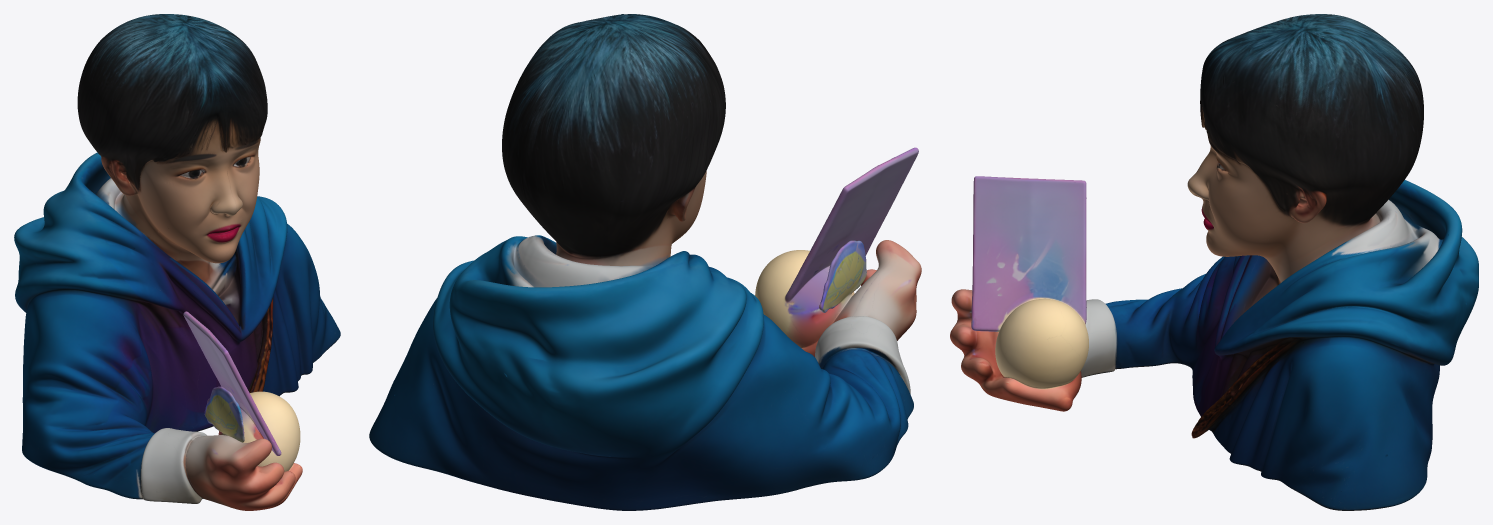
The picture shows the model from 3 angles, left to right: view 1: azimuth 30°, elevation 25°; view 2: azimuth 150°, elevation 25°; view 3: azimuth 270°, elevation 25°; orthographic projection. The views are drawn at different scales.
Visible parts, largest first — view 1: texture_pbr_v128; view 2: texture_pbr_v128; view 3: texture_pbr_v128.
Boxes of the visible parts, x1,y1,x2,y2 form: texture_pbr_v128: [14, 14, 340, 510]; texture_pbr_v128: [369, 14, 921, 510]; texture_pbr_v128: [950, 14, 1478, 510].
Bounding box in the file's own units: 0.7758 × 0.7678 × 0.8978.
1 material, 1 textured.
